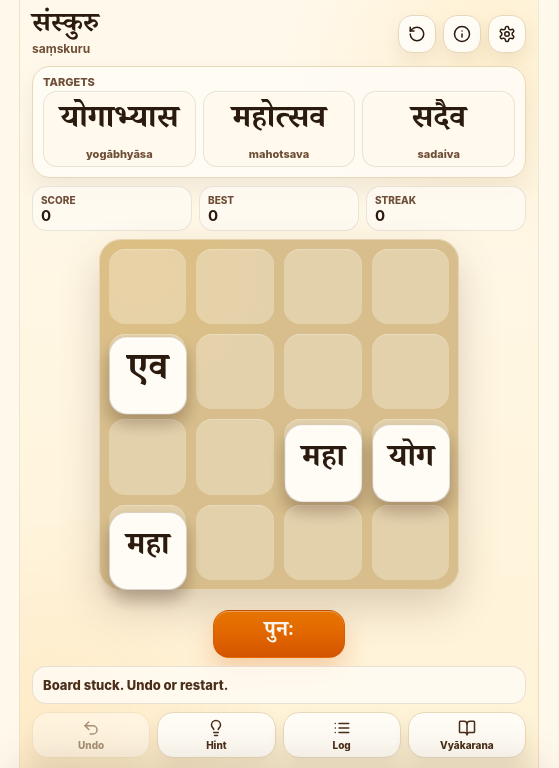
App smoke flow › shows a prominent restart CTA when the run is stuck
Expected: the text "Board stuck. Undo or restart." is shown, [43,677,228,693]
Click the button named "Restart run".
click(279, 634)  # box [213,610,345,658]
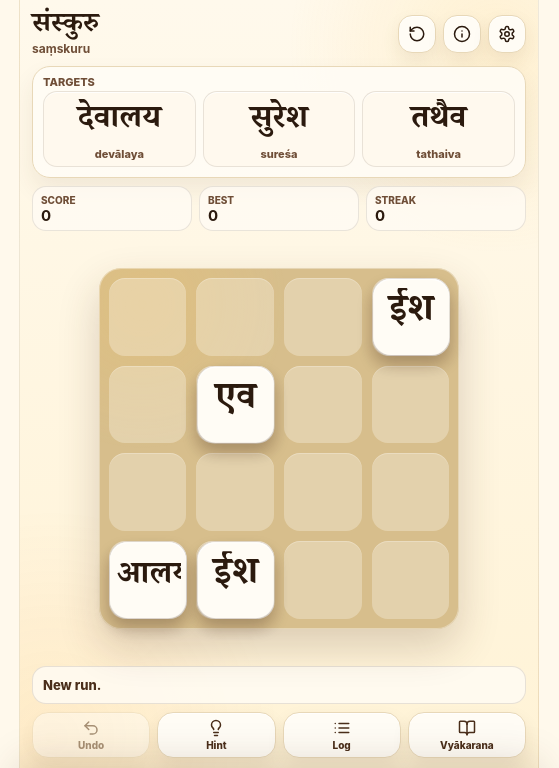
Result: the text "New run." is shown at [43,677,101,693]
